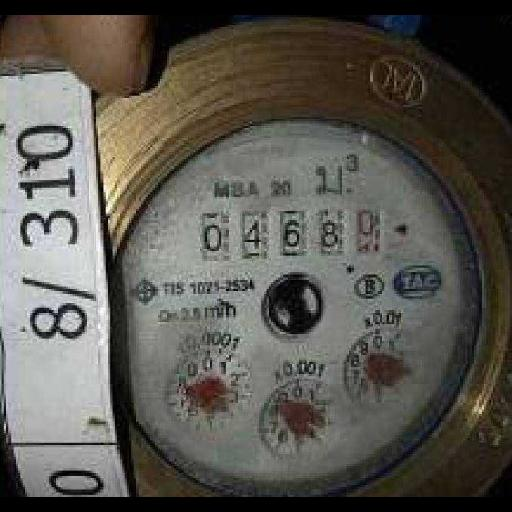0: (202, 215, 228, 258), (356, 211, 378, 253)
4: (241, 214, 267, 256)
6: (282, 213, 306, 255)
8: (319, 212, 343, 254)
border_water_meter_number: (198, 204, 385, 262)
